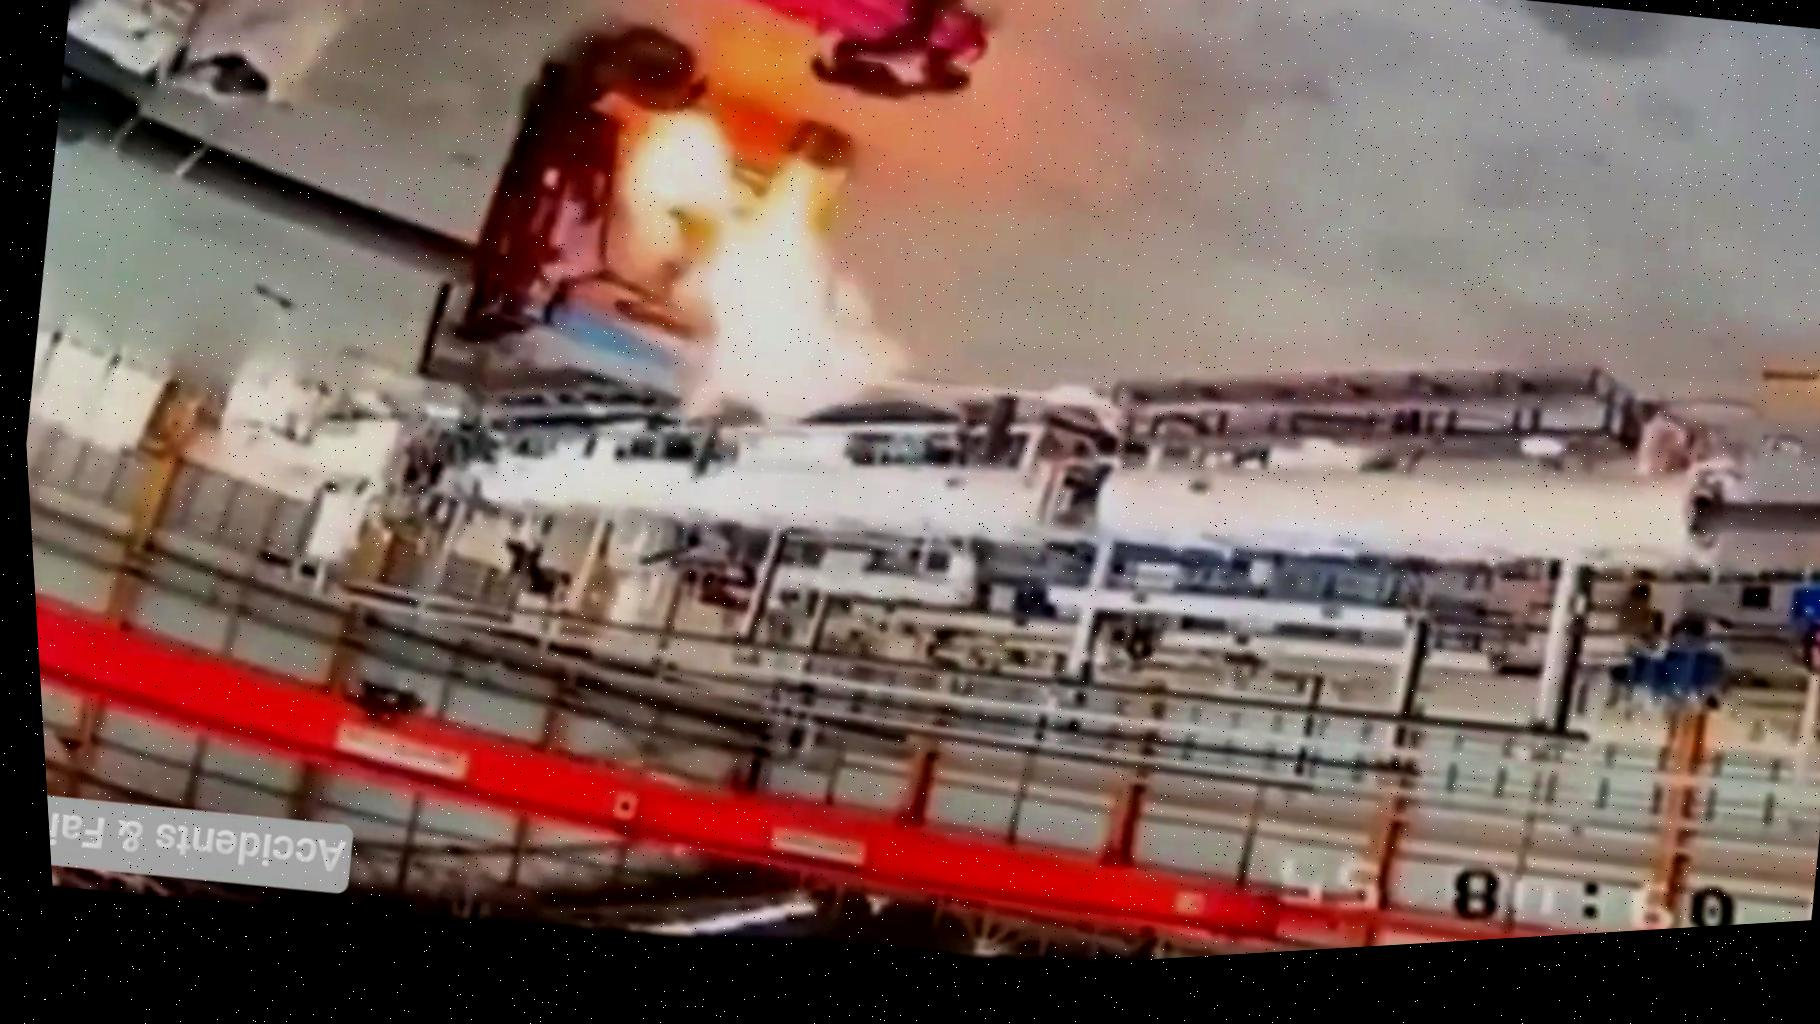fire: (322, 1, 1110, 493)
